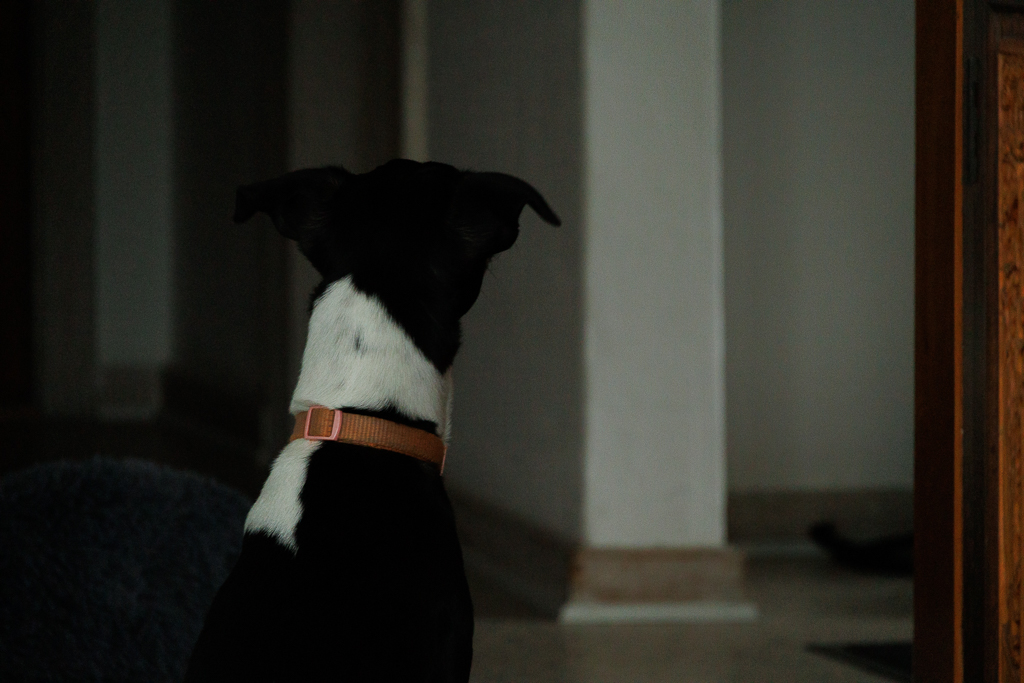Dog: (172, 131, 576, 683)
